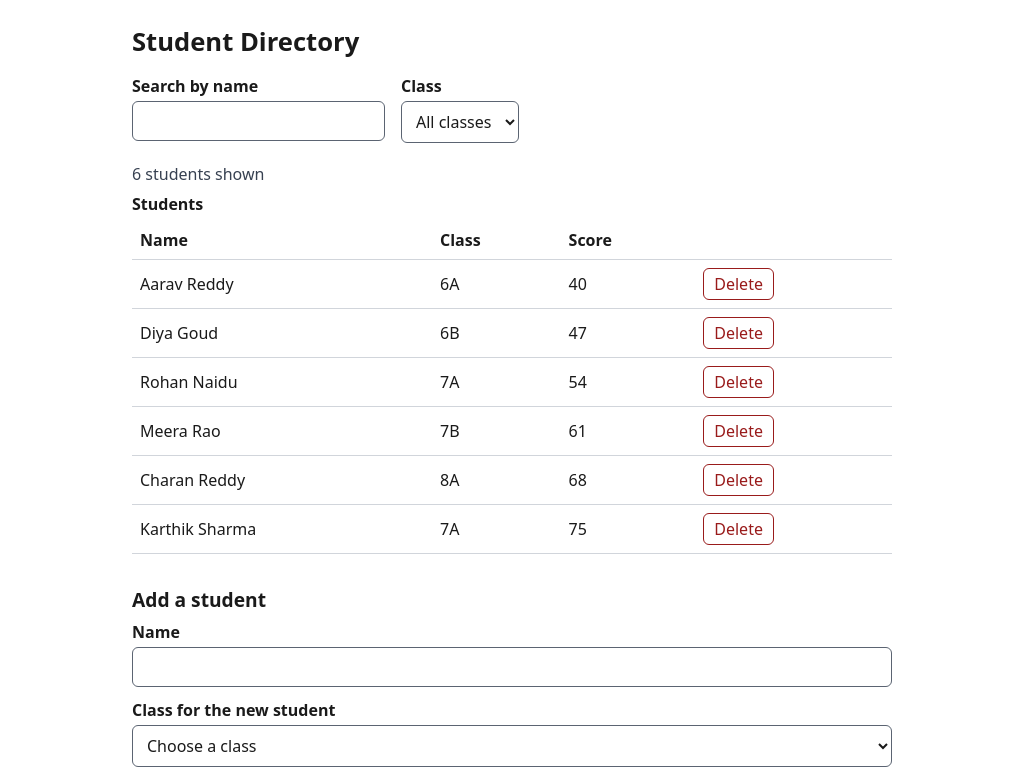
Test case: adding a student › a score of abc is refused before anything is sent
Expected: the table is shown, x1=132 y1=193 x2=892 y2=554
Type "Zara Khan" into the field labelled "Name" at (512, 667), box x1=132 y1=647 x2=892 y2=687
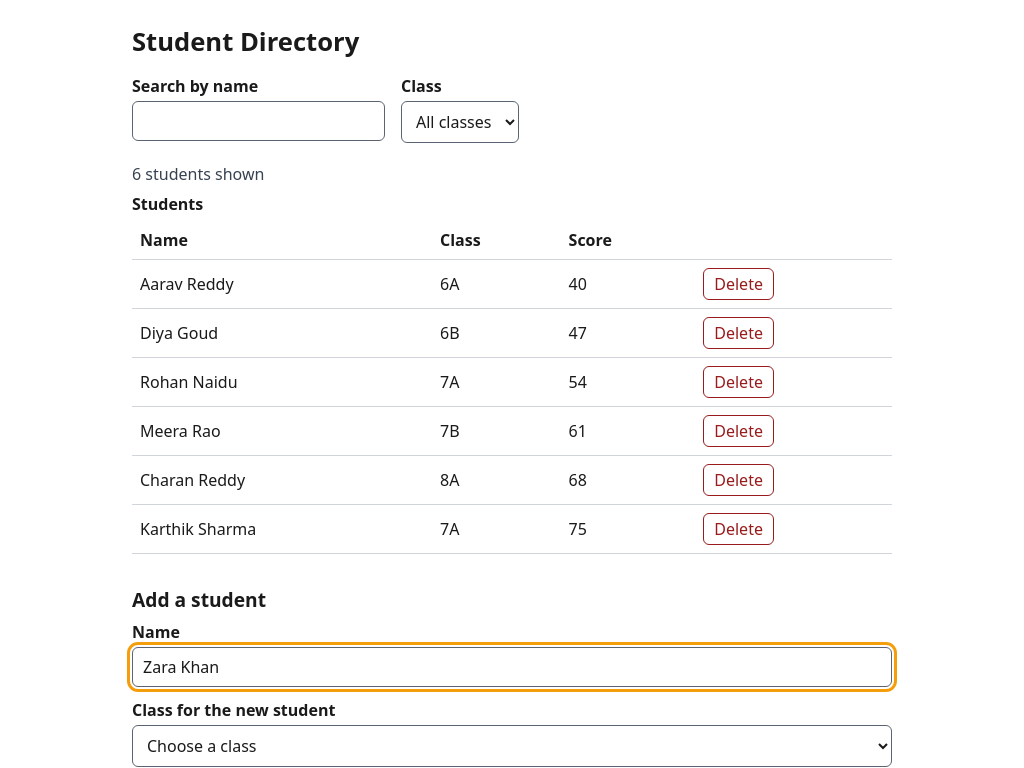
Select "8A" in the dropdown labelled "Class for the new student" at (512, 746), box x1=132 y1=725 x2=892 y2=767
(page scrolled)
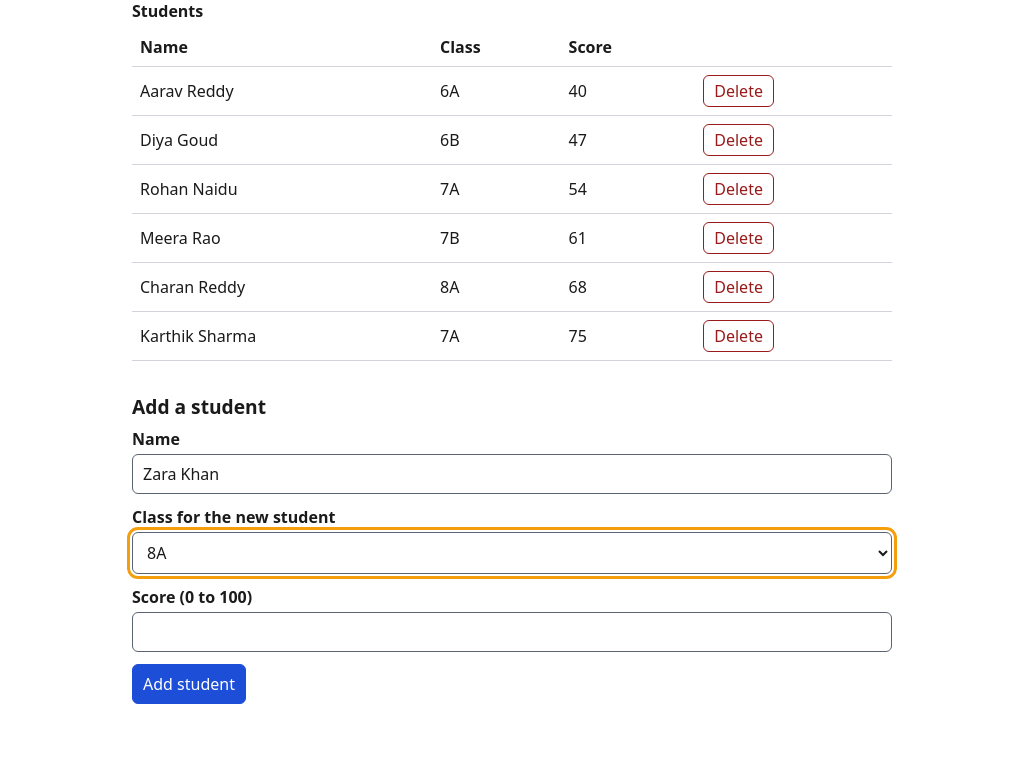
Type "abc" into the field labelled "Score (0 to 100)" at (512, 632), box x1=132 y1=612 x2=892 y2=652
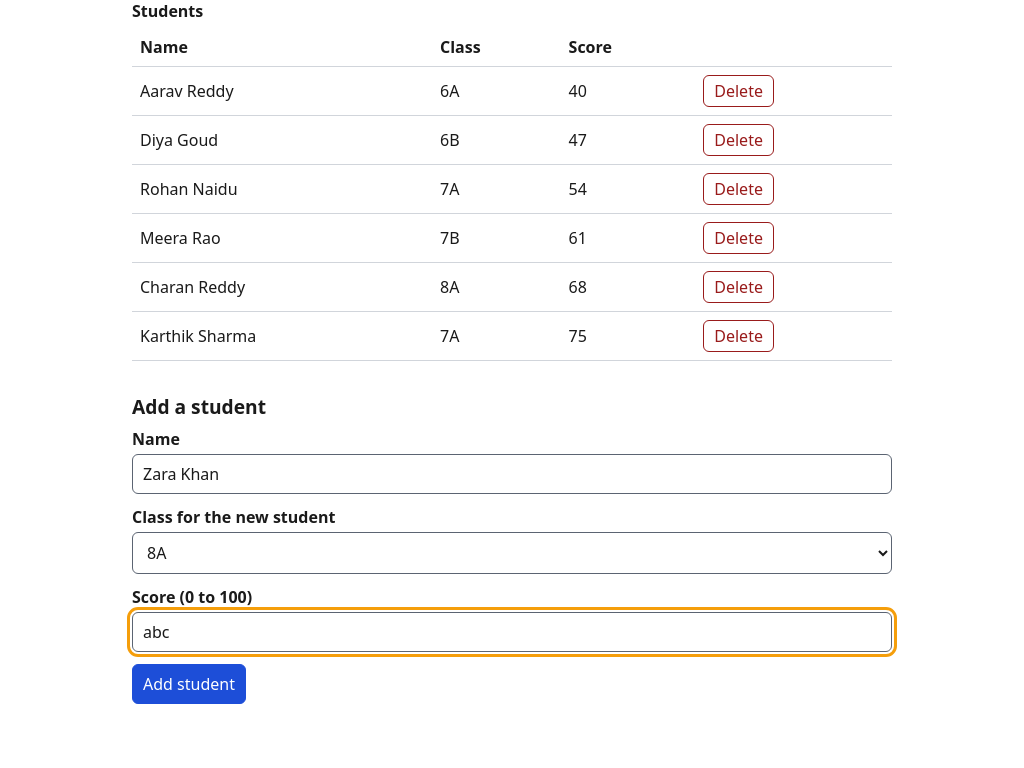
Click the button "Add student" at (189, 684), box x1=132 y1=664 x2=246 y2=704
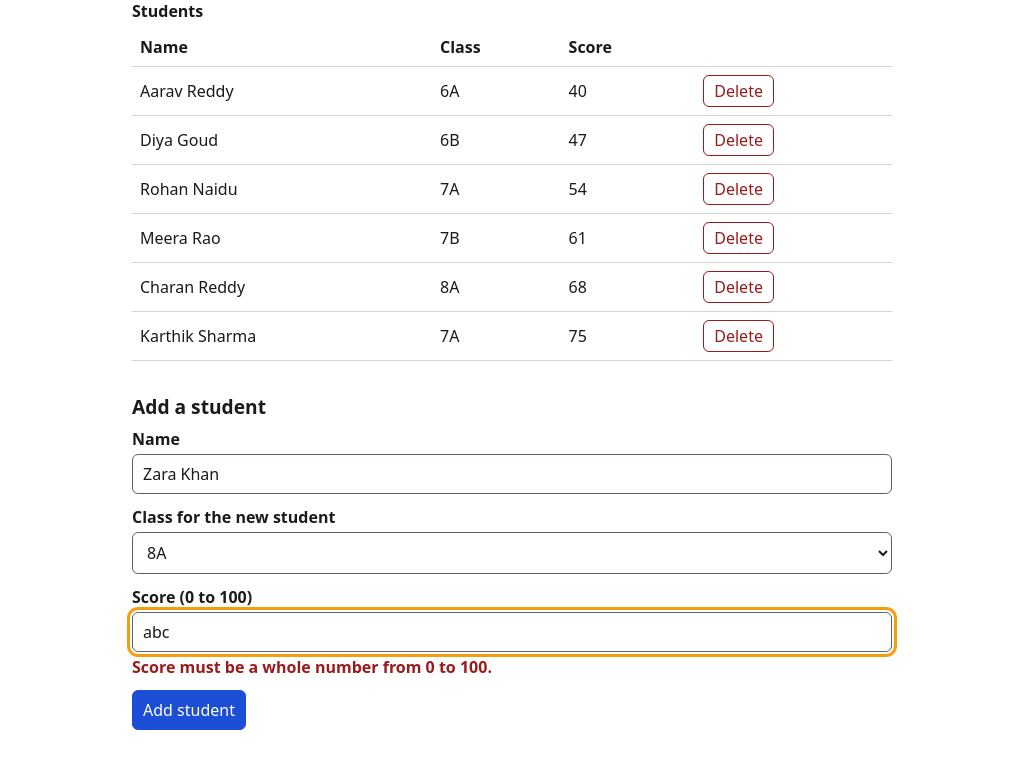
Expected: the text "Score must be a whole number from 0 to 100." is shown, x1=132 y1=656 x2=492 y2=678
